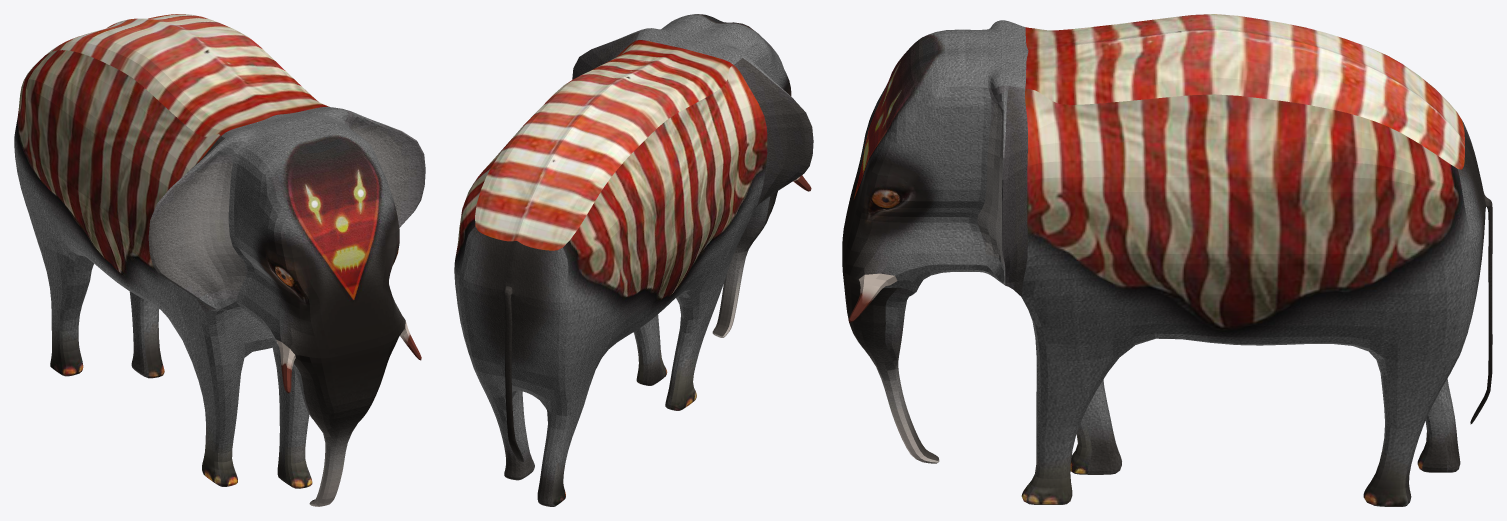
Rendered from exp_norsu.fbx.
3 views of the same model, side by side, from view 1: azimuth 30°, elevation 25°; view 2: azimuth 150°, elevation 25°; view 3: azimuth 270°, elevation 25° (orthographic). The views are drawn at different scales.
Visible parts, largest first — view 1: norsu; view 2: norsu; view 3: norsu.
Boxes of the visible parts, x1,y1,x2,y2 form: norsu: (14, 14, 425, 506); norsu: (454, 14, 813, 506); norsu: (842, 14, 1492, 506).
Bounding box in the file's own units: 252 × 347 × 449.
1 material, 1 textured.
